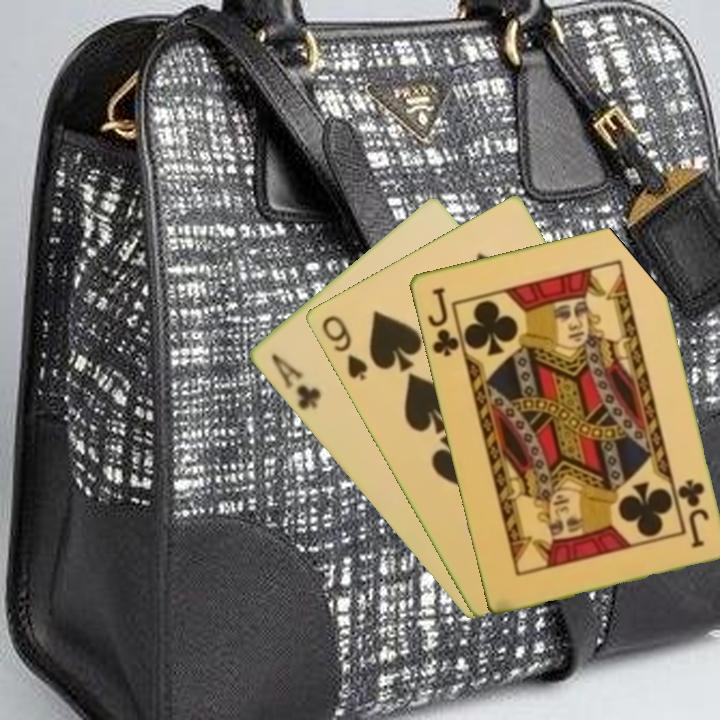9s: (317, 311, 371, 384)
Ac: (266, 350, 324, 413)
Jc: (424, 283, 462, 360), (673, 475, 711, 551)
